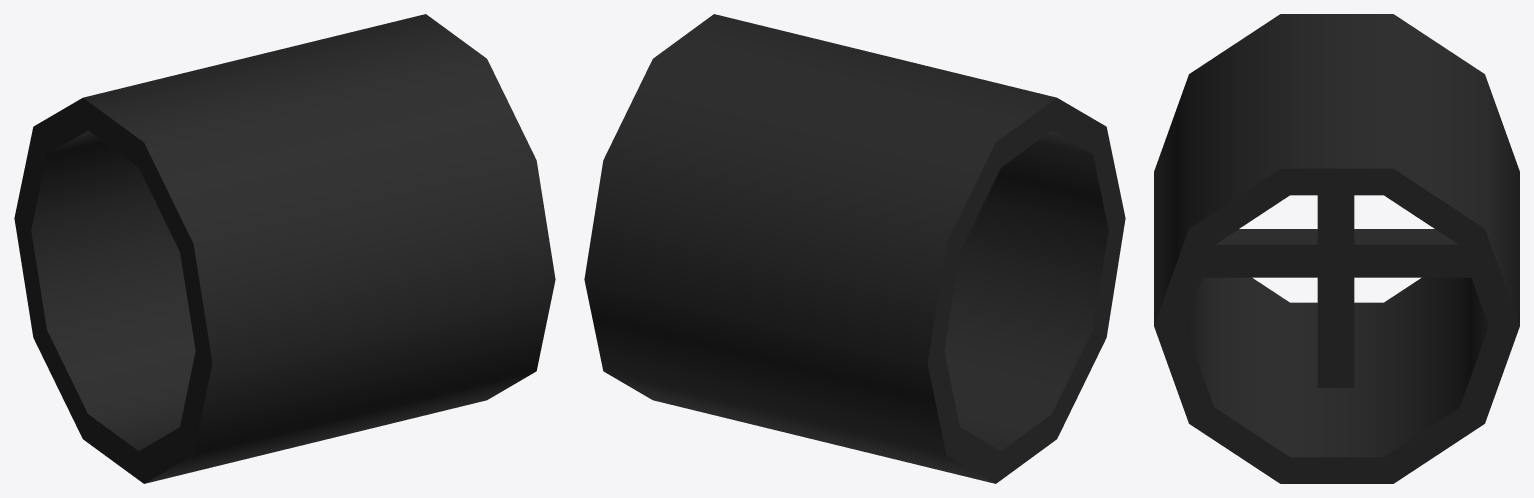
The model's file is venus_rover_wheel.obj.
3 views of the same model, side by side, from view 1: azimuth 30°, elevation 25°; view 2: azimuth 150°, elevation 25°; view 3: azimuth 270°, elevation 25° (orthographic). The views are drawn at different scales.
Visible parts, largest first — view 1: Wheel; view 2: Wheel; view 3: Wheel, BraceWheel1, BraceWheel2.
Boxes of the visible parts, x1,y1,x2,y2 form: Wheel: (14, 14, 555, 483); Wheel: (584, 14, 1125, 483); Wheel: (1154, 14, 1519, 483); BraceWheel1: (1202, 229, 1471, 277); BraceWheel2: (1317, 195, 1354, 387).
Size of the model in its own units: 1.11 by 1.05 by 1.11.
